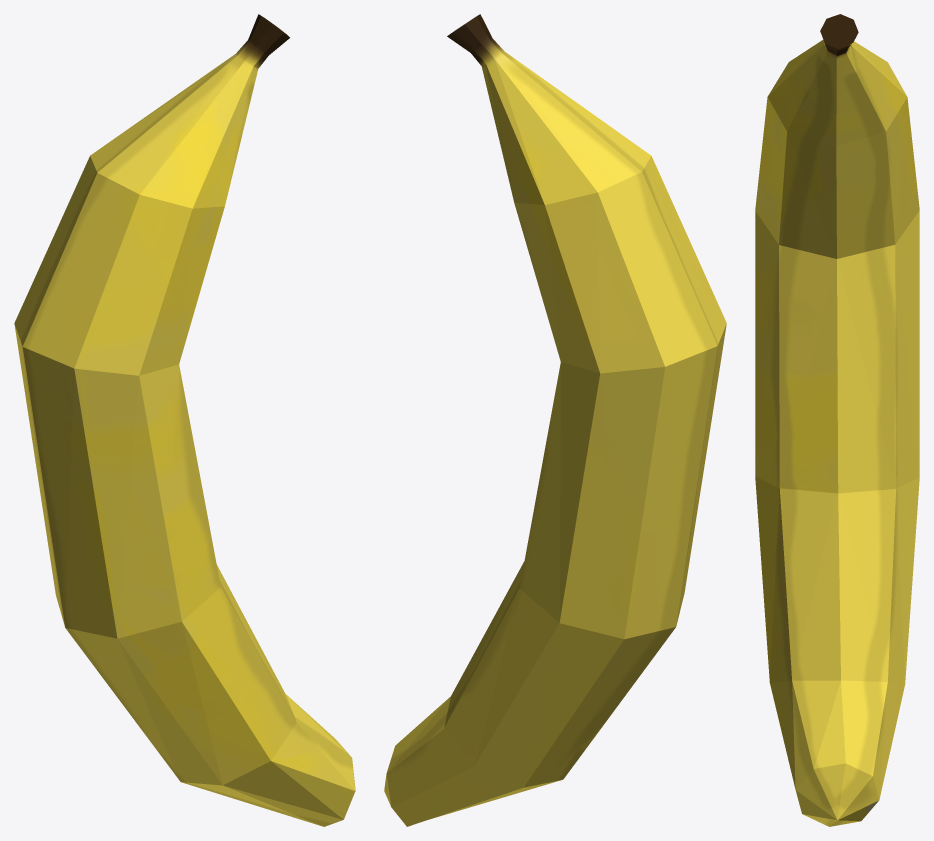
Rendered from banana.dae.
3 views of the same model, side by side, from view 1: azimuth 30°, elevation 25°; view 2: azimuth 150°, elevation 25°; view 3: azimuth 270°, elevation 25° (orthographic). The views are drawn at different scales.
Parts seen in each view (by area): view 1: Cylinder; view 2: Cylinder; view 3: Cylinder.
Part boxes in pixels (left/top/right/bottom): Cylinder: left=14, top=14, right=355, bottom=826; Cylinder: left=384, top=14, right=726, bottom=826; Cylinder: left=755, top=14, right=919, bottom=826.
Bounding box in the file's own units: 0.1779 × 0.0796 × 0.4191.
